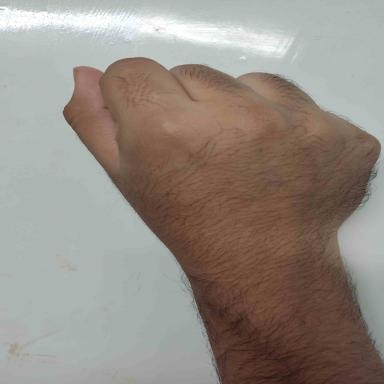normal skin: (64, 58, 383, 384)
